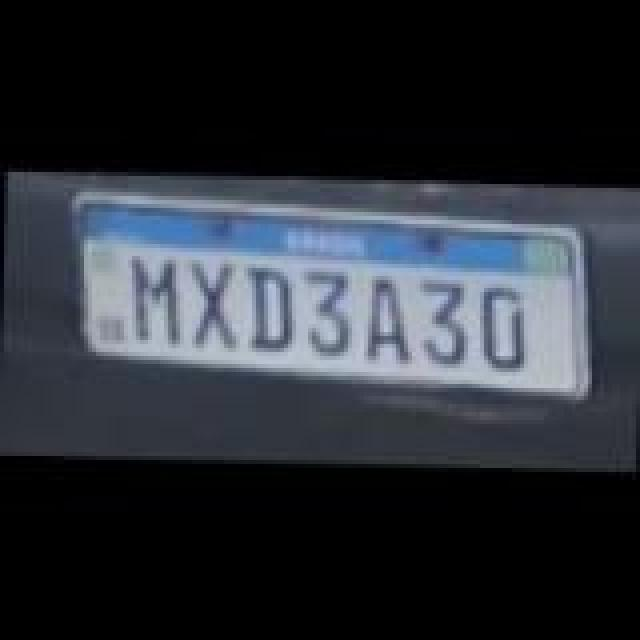3: (410, 274, 478, 362), (294, 266, 362, 354)
A: (356, 270, 420, 362)
D: (234, 260, 302, 348), (470, 280, 538, 368)
M: (120, 252, 192, 344)
X: (178, 252, 246, 344)
